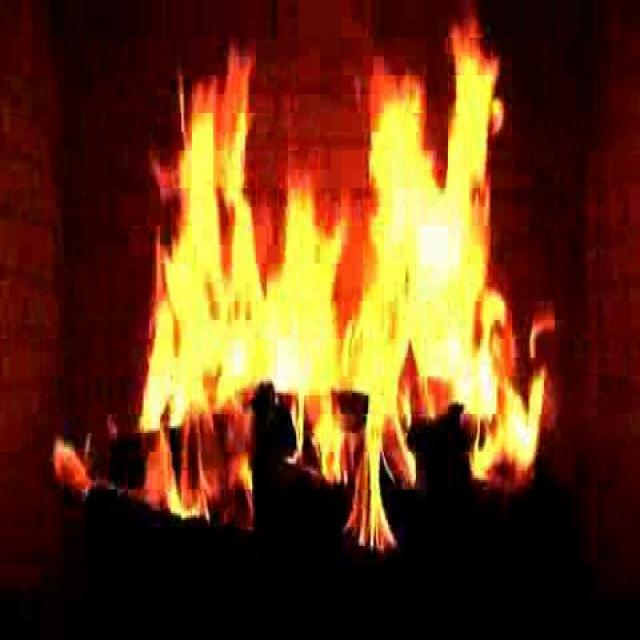fire: (159, 156, 526, 486)
